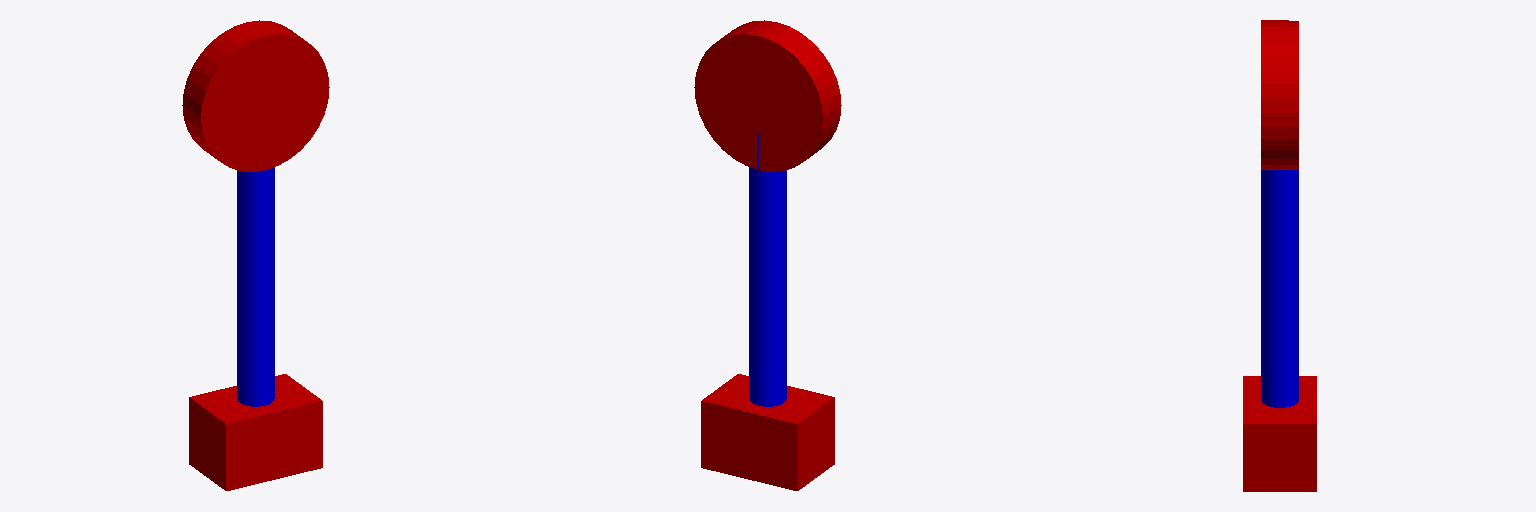
The robot description file, URDF, robot "Mario":
<?xml version="1.0"?>
<robot name="Mario">
    <link name="World">
        <inertial>
            <origin xyz="0.0 0.0 0.0" rpy="0.0 0.0 0.0"/>
            <mass value="0.0"/>
            <inertia ixx="0.0" ixy="0.0" ixz="0.0" iyy="0.0" iyz="0.0" izz="0.0"/>
        </inertial>
    </link>

    <joint name="World2XAxis" type="prismatic">
        <origin xyz="0.0 0.0 0.0" rpy="0.0 0.0 0.0"/>
        <axis xyz="1.0 0.0 0.0"/>
        <limit lower="-50.0" upper="50.0" effort="0.0"/>
        <parent link="World"/>
        <child link="XAxis"/>
    </joint>

    <link name="XAxis">
        <inertial>
            <origin xyz="0.0 0.0 0.0" rpy="0.0 0.0 0.0"/>
            <mass value="0.01"/>
            <inertia ixx="0.01" ixy="0.0" ixz="0.0" iyy="0.01" iyz="0.0" izz="0.01"/>
        </inertial>
    </link>

    <joint name="XAxis2ZAxis" type="prismatic">
        <origin xyz="0.0 0.0 0.0" rpy="0.0 0.0 0.0"/>
        <parent link="XAxis"/>
        <child link="ZAxis"/>
        <axis xyz="0.0 0.0 -1.0"/>
        <limit lower="-50.0" upper="50.0"/>
    </joint>

    <link name="ZAxis">
        <inertial>
            <origin xyz="0.0 0.0 0.0" rpy="0.0 0.0 0.0"/>
            <mass value="0.01"/>
            <inertia ixx="0.01" ixy="0.0" ixz="0.0" iyy="0.01" iyz="0.0" izz="0.01"/>
        </inertial>
    </link>

    <joint name="ZAxis2body" type="continuous">
        <origin xyz="0.0 0.0 0.0" rpy="0.0 0.0 0.0"/>
        <parent link="ZAxis"/>
        <child link="body"/>
        <axis xyz="0.0 1.0 0.0"/>
    </joint>

    <link name="body">
        <inertial>
            <origin xyz="0.0 0.0 0.0" rpy="0.0 0.0 0.0"/>
            <mass value="7.0"/>
            <inertia ixx="0.5" ixy="0.0" ixz="0.0" iyy="0.5" iyz="0.0" izz="0.5"/>
        </inertial>
        <visual>
            <origin xyz="0.0 0.0 0.0" rpy="0.0 0.0 0.0"/>
            <geometry>
                <box size="0.3 0.2 0.2"/>
            </geometry>
            <material name="red">
                <color rgba="0.8 0.0 0.0 1.0"/>
            </material>
        </visual>
        <collision>
            <origin xyz="0.0 0.0 0.0" rpy="0.0 0.0 0.0"/>
            <geometry>
                <box size="0.3 0.2 0.2"/>
            </geometry>
        </collision>
    </link>

    <joint name="body2thigh" type="fixed">
        <origin xyz="0.0 0.0 0.0" rpy="0.0 0.0 0.0"/>
        <parent link="body"/>
        <child link="thigh"/>
    </joint>

    <link name="thigh">
        <inertial>
            <origin xyz="0.0 0.0 0.25" rpy="0.0 0.0 0.0"/>
            <mass value="0.05"/>
            <inertia ixx="0.05" ixy="0.0" ixz="0.0" iyy="0.0" iyz="0.0" izz="0.05"/>
        </inertial>
        <visual>
            <origin xyz="0.0 0.0 0.25" rpy="0.0 0.0 0.0"/>
            <geometry>
                <cylinder radius="0.05" length="0.5"/>
            </geometry>
            <material name="blue">
                <color rgba="0.0 0.0 1.0 1.0"/>
            </material>
        </visual>
    </link>

    <joint name="engine1" type="continuous">
        <origin xyz="0.0 0.0 0.5" rpy="0.0 0.0 0.0"/>
        <parent link="thigh"/>
        <child link="leg"/>
        <axis xyz="0.0 1.0 0.0"/>
        <limit velocity="30.0"/>
    </joint>

    <link name="leg">
        <inertial>
            <origin xyz="0.0 0.0 0.25" rpy="0.0 0.0 0.0"/>
            <mass value="0.05"/>
            <inertia ixx="0.05" ixy="0.0" ixz="0.0" iyy="0.0" iyz="0.0" izz="0.05"/>
        </inertial>
        <visual>
            <origin xyz="0.0 0.0 0.25" rpy="0.0 0.0 0.0"/>
            <geometry>
                <cylinder radius="0.05" length="0.5"/>
            </geometry>
            <material name="blue">
            </material>
        </visual>
    </link>

    <joint name="engine2" type="continuous">
        <origin xyz="0.0 0.0 0.5" rpy="0.0 0.0 0.0"/>
        <parent link="leg"/>
        <child link="wheel"/>
        <axis xyz="0.0 1.0 0.0"/>
        <limit velocity="30.0"/>
    </joint>

    <link name="wheel">
        <inertial>
            <origin xyz="0.0 0.0 0.0" rpy="0.0 0.0 0.0"/>
            <mass value="2.0"/>
            <inertia ixx="0.5" ixy="0.0" ixz="0.0" iyy="0.0" iyz="0.0" izz="0.5"/>
        </inertial>
        <visual>
            <origin xyz="0.0 0.0 0.0" rpy="1.57 0.0 0.0"/>
            <geometry>
                <cylinder radius="0.2" length="0.1"/>
            </geometry>
            <material name="red">
            </material>
        </visual>
        <collision>
            <origin xyz="0.0 0.0 0.0" rpy="1.57 0.0 0.0"/>
            <geometry>
                <cylinder radius="0.2" length="0.1"/>
            </geometry>
        </collision>
    </link>

</robot>

--- Render facts (derived) ---
3 views of the same robot in one strip: view 1: azimuth 30°, elevation 25°; view 2: azimuth 150°, elevation 25°; view 3: azimuth 270°, elevation 25° (orthographic).
Model Mario with 7 links and 6 joints (3 continuous, 2 prismatic, 1 fixed), rooted at World, posed all joints at 0.
Visible links, largest first — view 1: wheel, body, thigh, leg; view 2: wheel, body, thigh, leg; view 3: body, wheel, thigh, leg.
Boxes of the visible links, x1,y1,x2,y2 form: wheel: (182,20,329,171); body: (189,374,322,490); thigh: (237,264,274,406); leg: (237,167,274,271); wheel: (694,20,841,171); body: (701,374,834,490); thigh: (749,264,786,406); leg: (749,134,786,271); body: (1243,376,1316,491); wheel: (1261,20,1298,169); thigh: (1261,265,1298,407); leg: (1261,170,1298,271).
Size in the robot's own frame: 0.4 by 0.2 by 1.3 metres.
Geometry: primitives only (box / cylinder / sphere), no mesh files.
